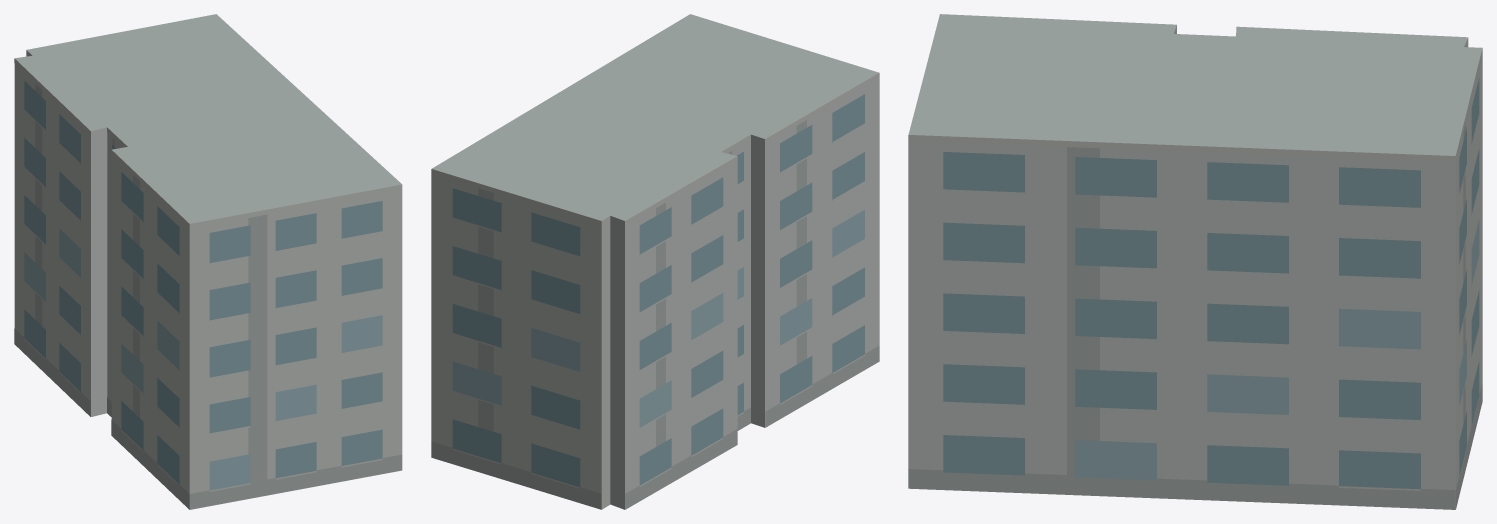
Rendered from survey-upis-33015175.glb.
The picture shows the model from 3 angles, left to right: view 1: azimuth 30°, elevation 25°; view 2: azimuth 150°, elevation 25°; view 3: azimuth 270°, elevation 25°; orthographic projection. The views are drawn at different scales.
Parts seen in each view (by area): view 1: survey-upis-33015175.tmp; view 2: survey-upis-33015175.tmp; view 3: survey-upis-33015175.tmp.
Part boxes in pixels (x1,y1,x2,y2): survey-upis-33015175.tmp: (14, 14, 402, 509); survey-upis-33015175.tmp: (431, 14, 879, 509); survey-upis-33015175.tmp: (908, 14, 1482, 509).
Bounding box in the file's own units: 12.15 × 14.1 × 20.74.
